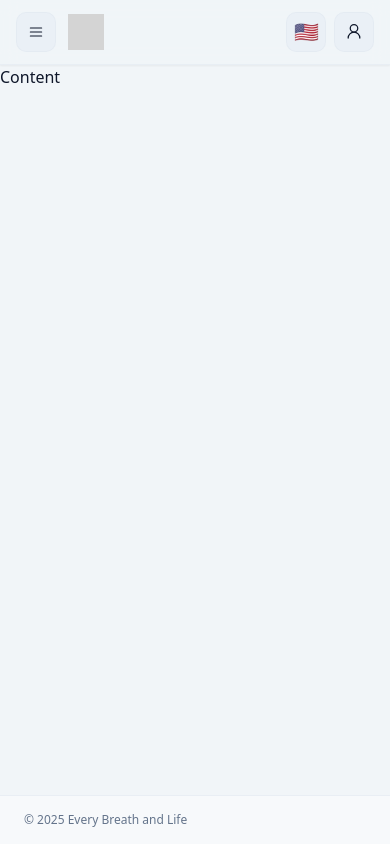
Test: AppShell › closes the mobile navigation when pressing Escape
The width and height of the screenshot is (390, 844).
Click the button named "Open navigation menu" at (36, 32), box [16,12,56,52]
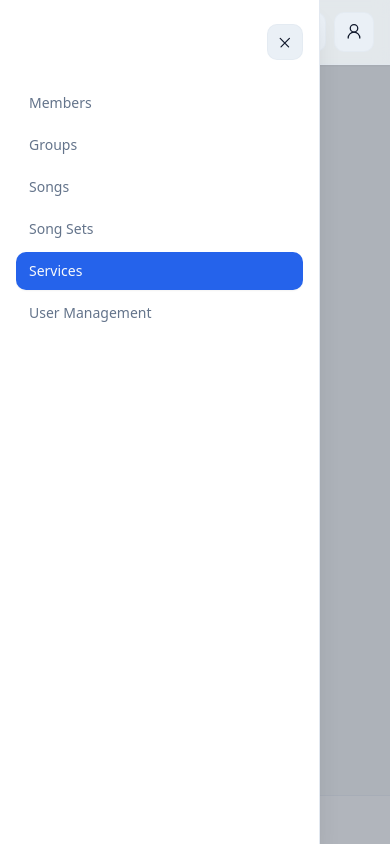
Now the dialog is shown
Press Escape
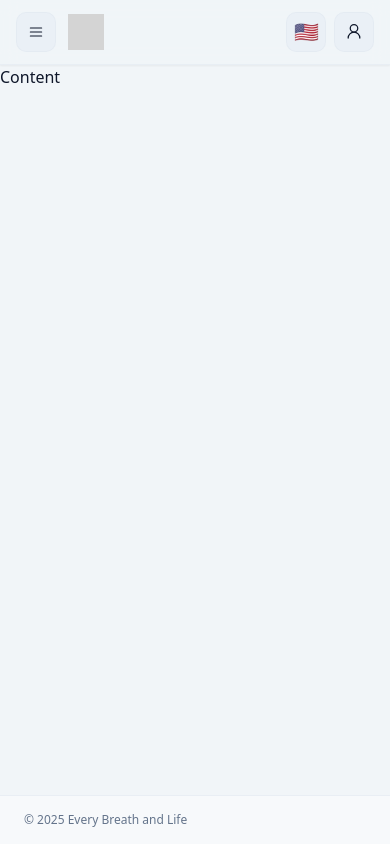
Now the dialog is gone
